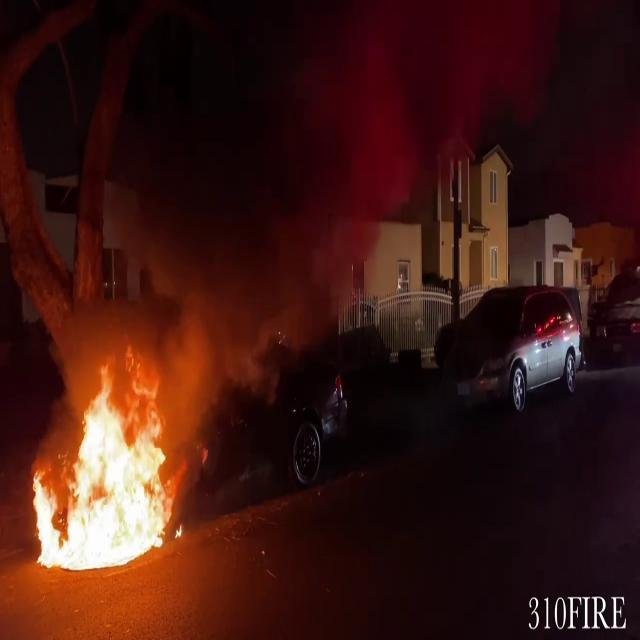Fire: (28, 360, 182, 574)
Smoke: (92, 0, 524, 351)
